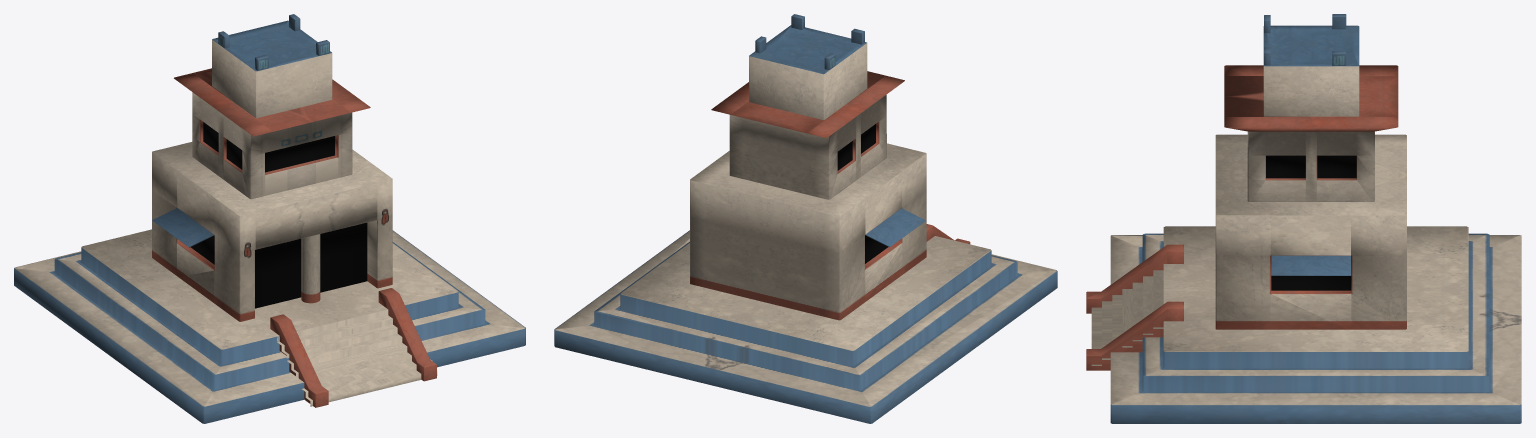
The model's file is ESTUDIO DE EXPLORACIÓN AZTECA.fbx.
3 views of the same model, side by side, from view 1: azimuth 30°, elevation 25°; view 2: azimuth 150°, elevation 25°; view 3: azimuth 270°, elevation 25° (orthographic). The views are drawn at different scales.
Visible parts, largest first — view 1: Cube.001; view 2: Cube.001; view 3: Cube.001.
Boxes of the visible parts, x1,y1,x2,y2 form: Cube.001: [14, 14, 525, 423]; Cube.001: [554, 14, 1057, 423]; Cube.001: [1086, 14, 1521, 423].
Bounding box in the file's own units: 981 × 818 × 1059.
Materials: 1 (1 with a texture image).
